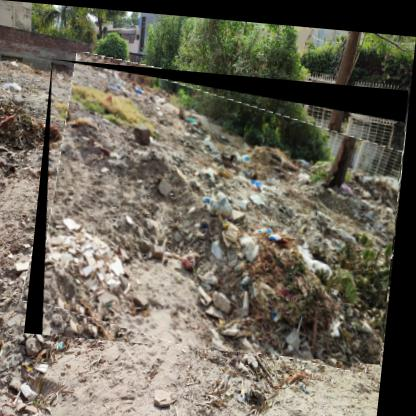Garbage: (32, 59, 412, 359)
